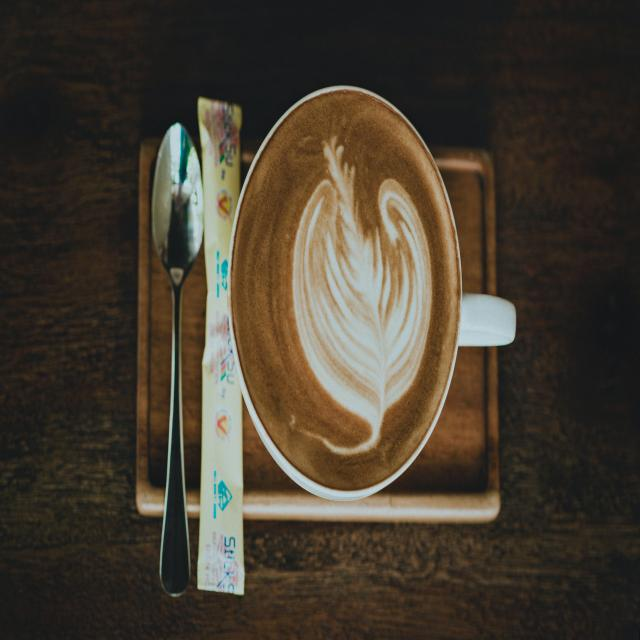cup: (228, 98, 494, 481)
